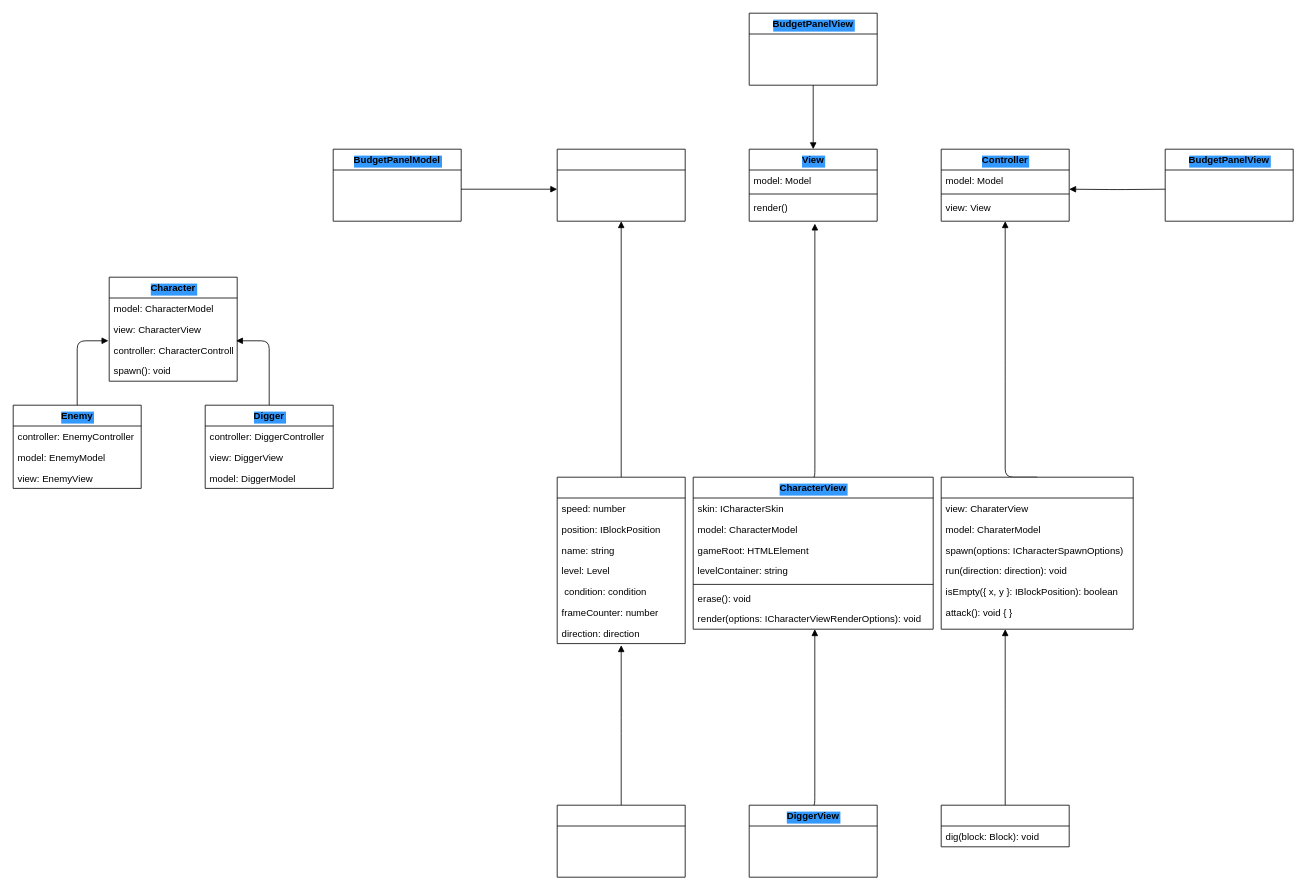
This 1306x890 diagram has some shape labels left out. The shapes that lost their labels are listed below. From the top down, each one's box as (x1, y1, x2, y2) in pixels, then its label:
(556, 148, 685, 221): Model
(556, 476, 685, 644): CharacterModel
(940, 476, 1133, 629): CharacterController
(556, 804, 685, 877): DiggerModel
(940, 804, 1069, 847): DiggerController
